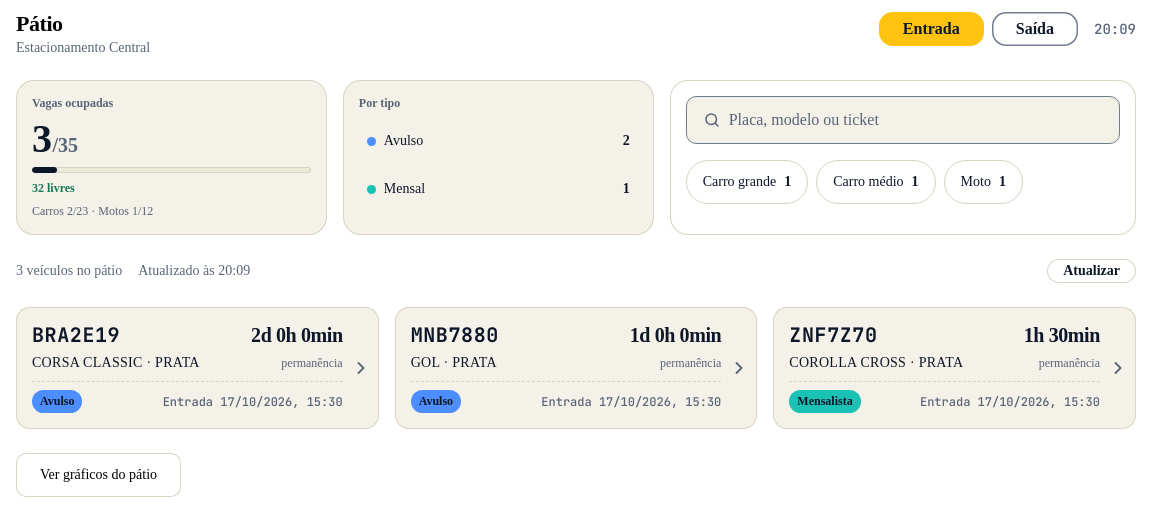
Test: PatioView: busca › filtra por placa, com o resumo no formato M de N
Type "mnb-78" into the search field named "Buscar por placa, modelo ou ticket". click: (916, 120)
box: [729,111,1103,129]
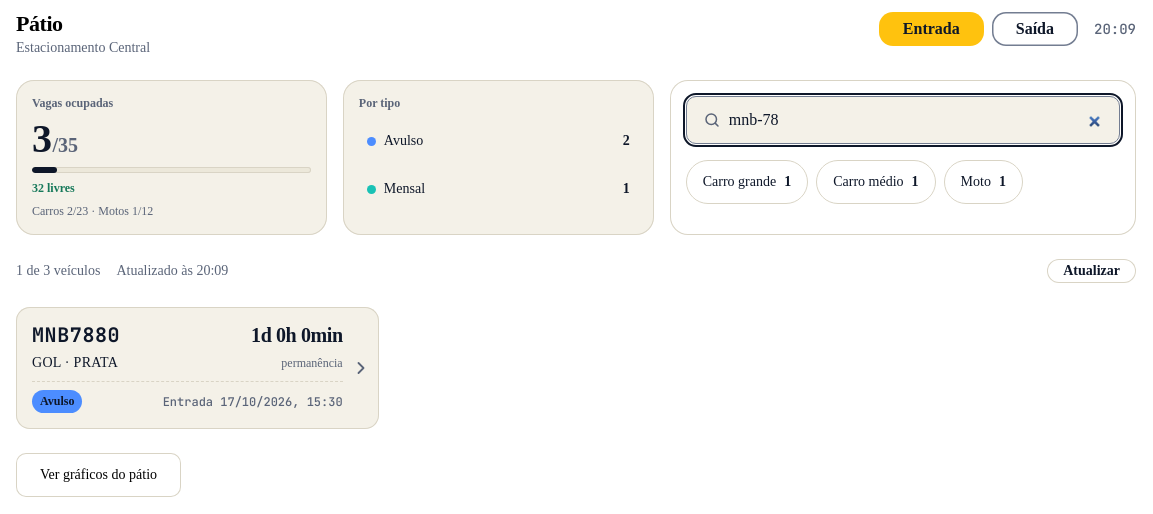
Result: the message reads "1 de 3 veículos" at [16,263,100,278]
